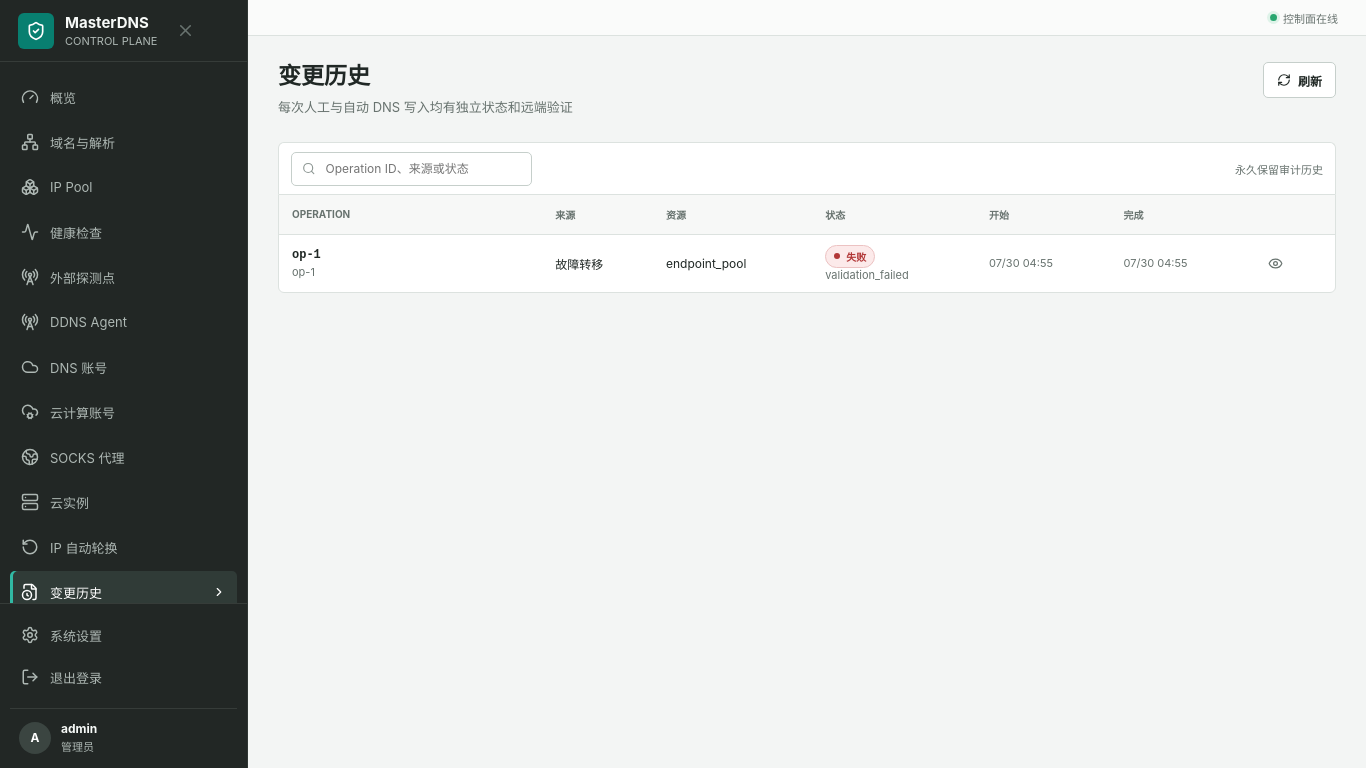
Test: shows the stored failure detail when opening an operation: Cloudflare rejected the DNS record (HTTP 400; code 9000 at /content)
Step 1. Click the button named "查看操作详情" → coordinates (1275, 263), box [1258, 246, 1292, 280]
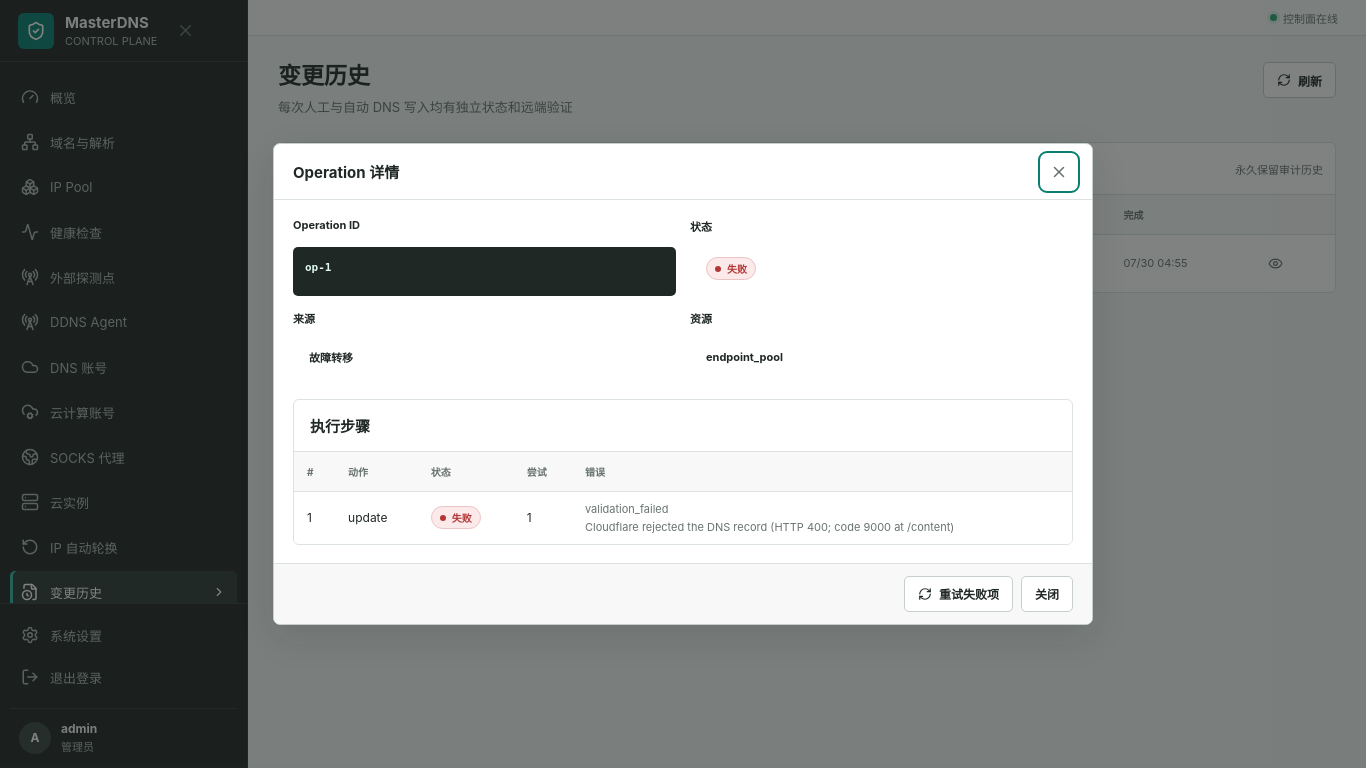
Result: the dialog shows "validation_failed" at [585, 502, 668, 516]
Result: the dialog shows "Cloudflare rejected the DNS record (HTTP 400; code 9000 at /content)" at [585, 520, 954, 534]
